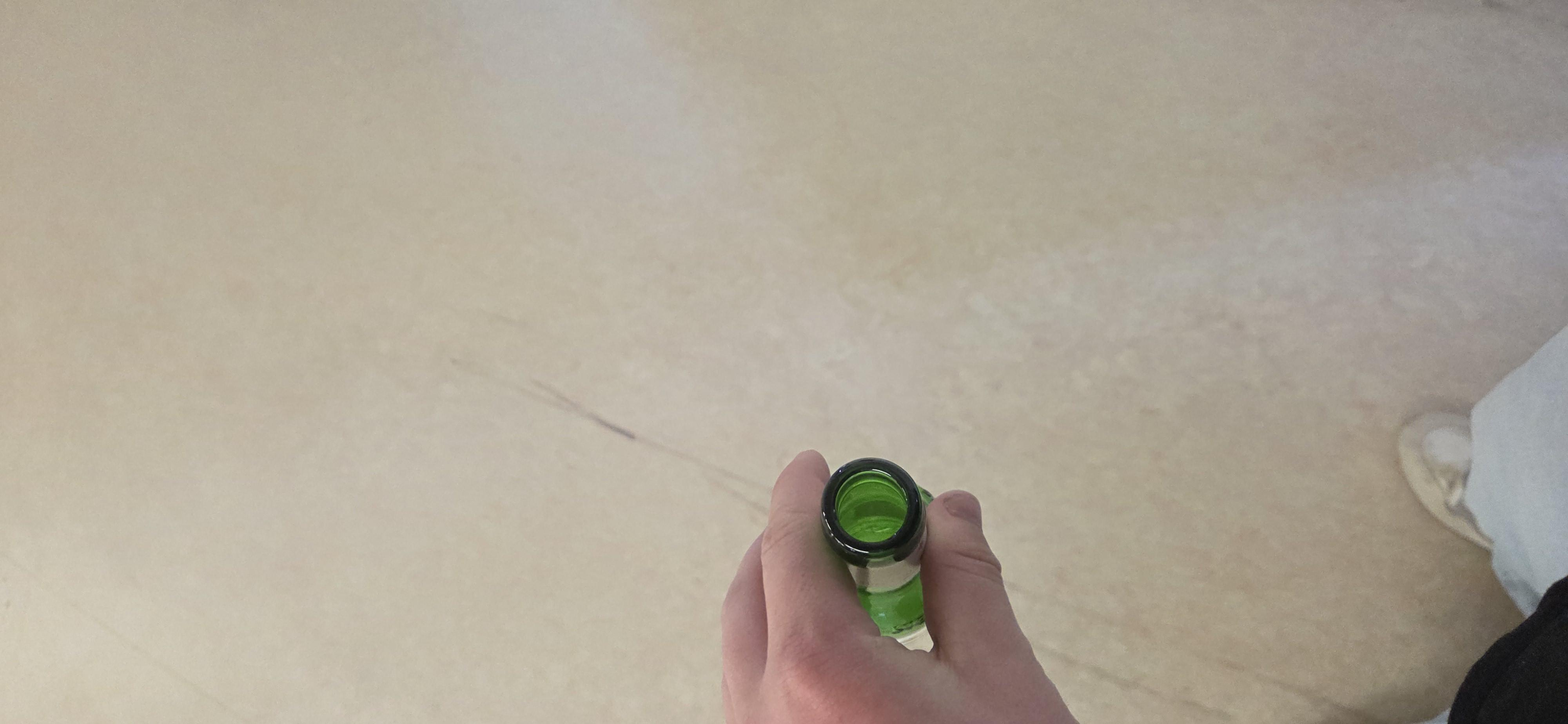Glass: (170, 373, 596, 435)
